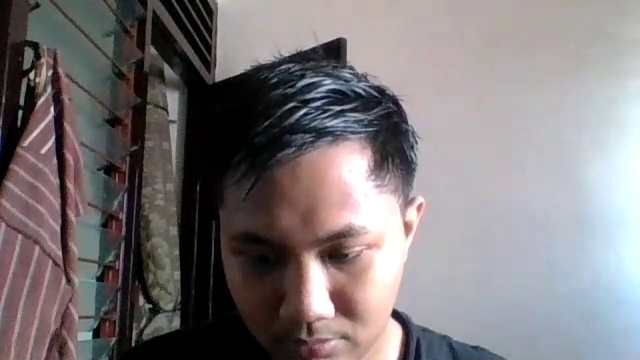Distracted: (211, 99, 421, 360)
